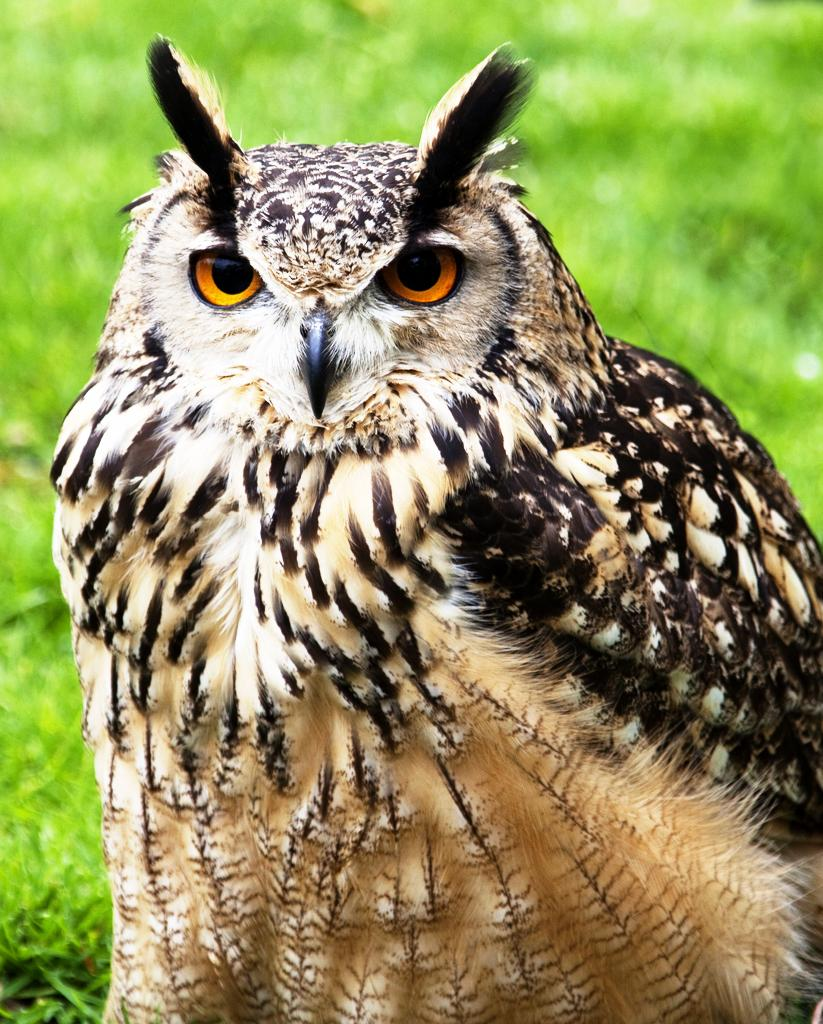Owl: (28, 38, 823, 1024)
